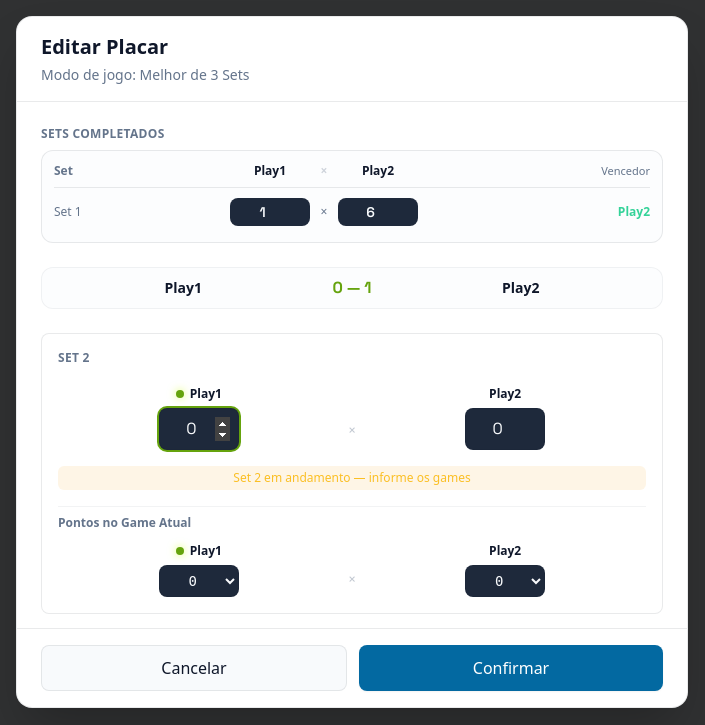
EditScoreModal - Detecção de Partida Encerrada › Teste 1: BEST_OF_3 - Partida encerra com 2 sets › deve mostrar banner verde quando partida é encerrada
Digita Set 2: 6-3
Type "3" into the number field with placeholder "0". click: (199, 429)
box: [159,408,239,450]
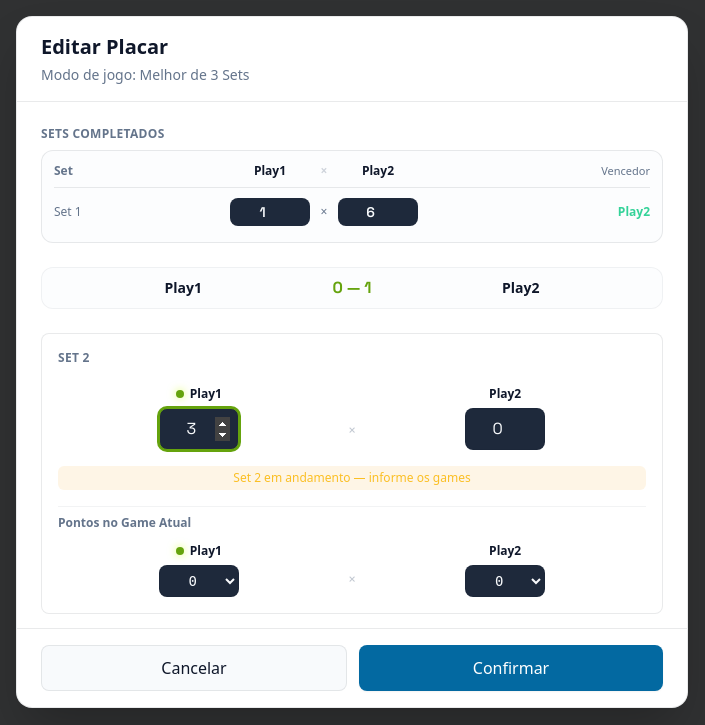
Type "6" into the number field with placeholder "0". click: (505, 429)
box: [465,408,545,450]
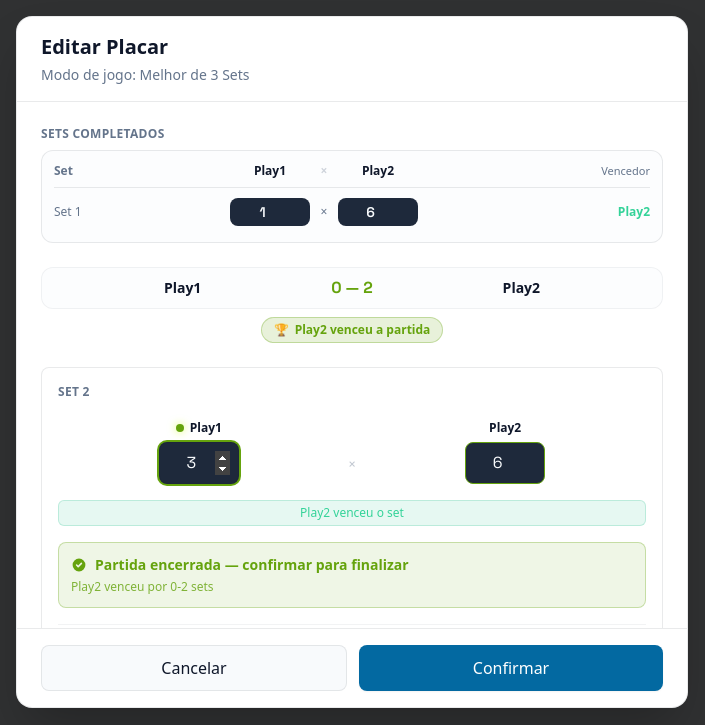
Expected: the text "Partida encerrada — confirmar para finalizar" is shown, [71,555,409,574]
